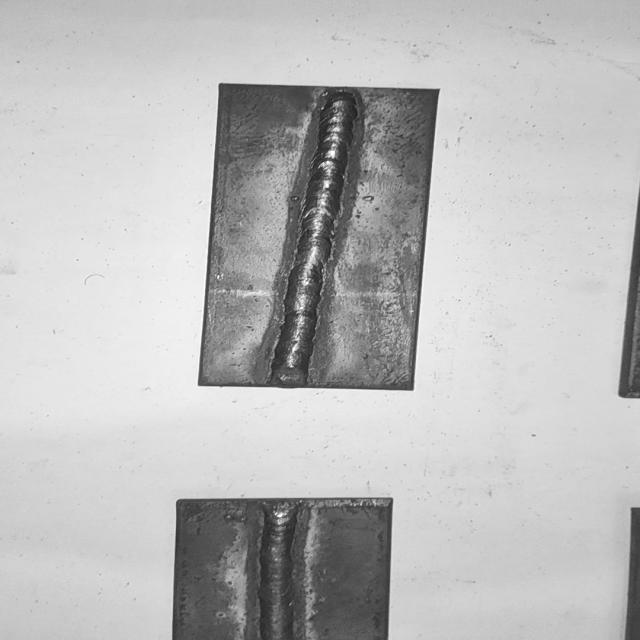Welding Line: (274, 92, 360, 386), (258, 501, 297, 640)
Workpiece: (193, 83, 446, 394), (168, 492, 400, 640)
